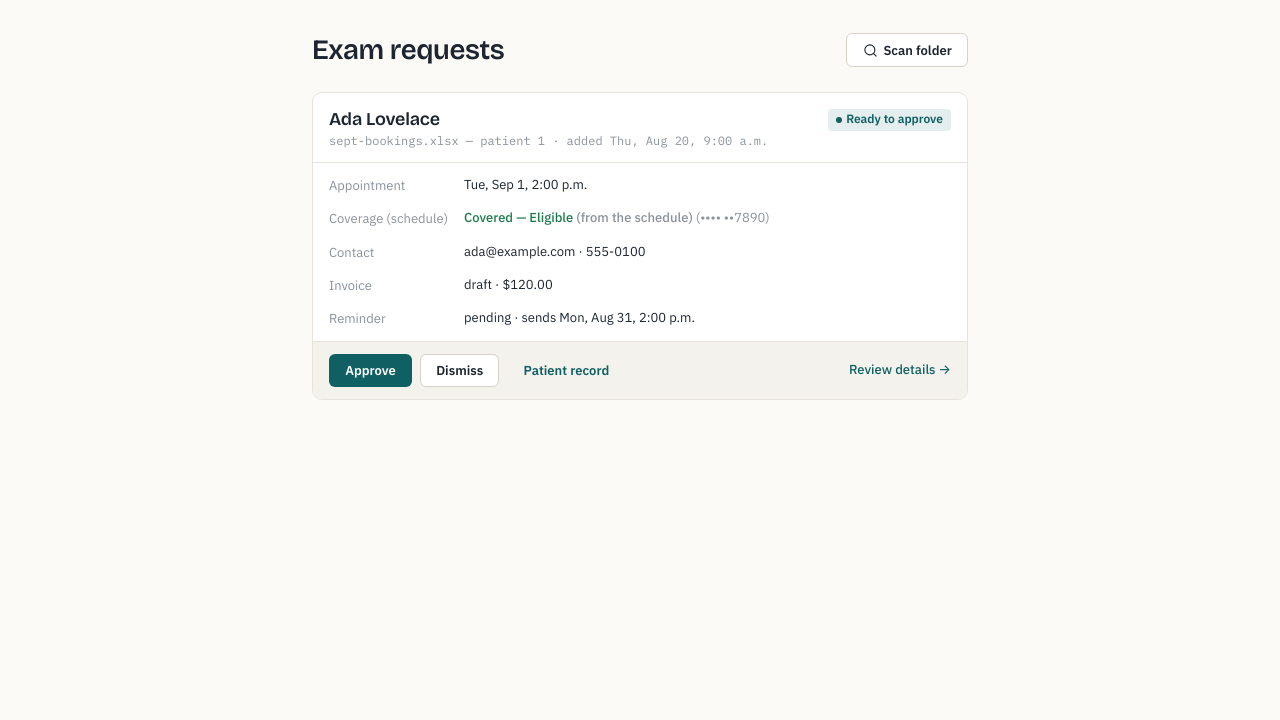
it: Inbox › fetches the source record only on demand (P0-1)
This screenshot has width=1280, height=720.
Expected: the heading "Ada Lovelace" is shown, [329,108,440,130]
Click the button "Review details →".
click(900, 370)  # box [849,360,951,380]
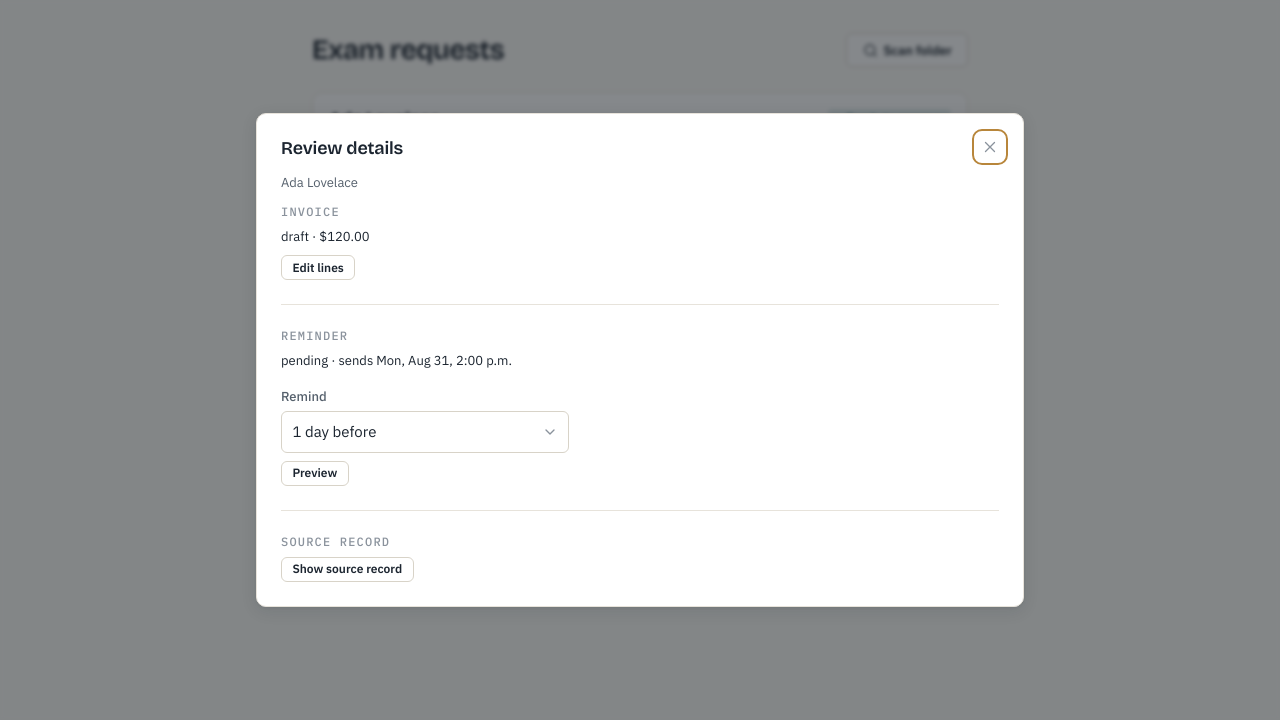
Click the button "Show source record".
click(347, 569)  # box [281,557,414,582]
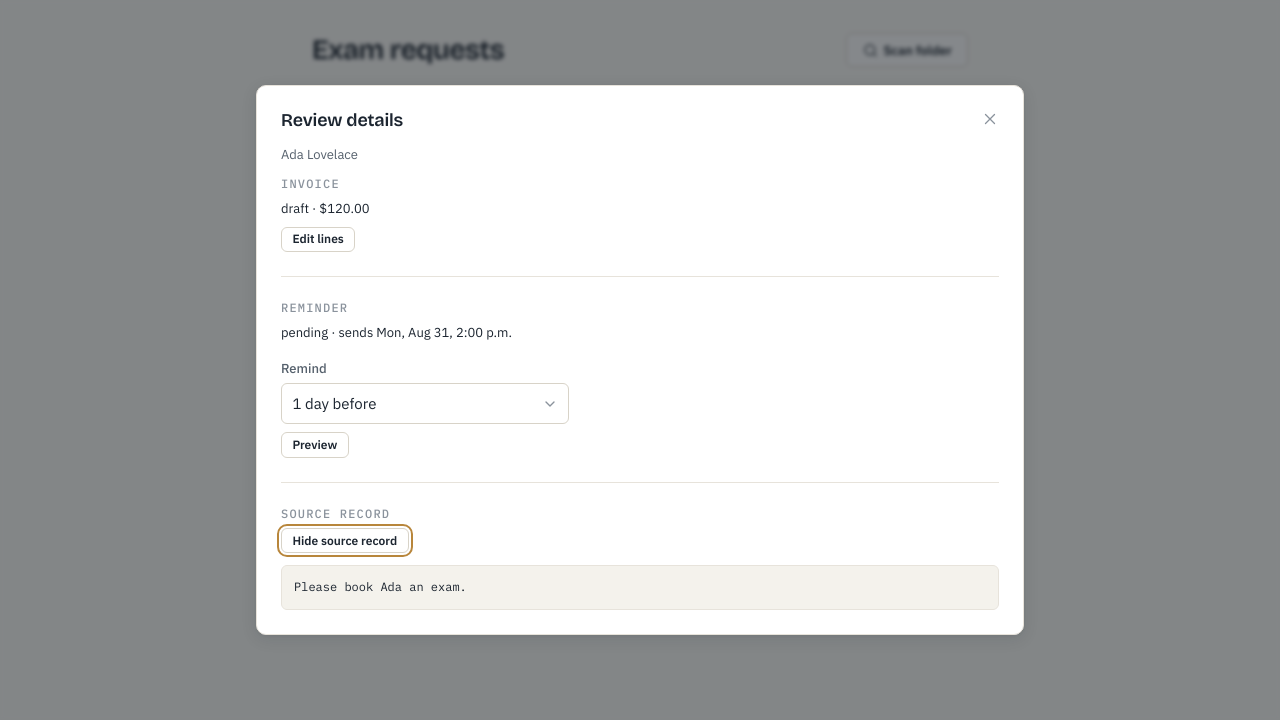
Result: the text "Please book Ada an exam." is shown at [281,566,999,610]
